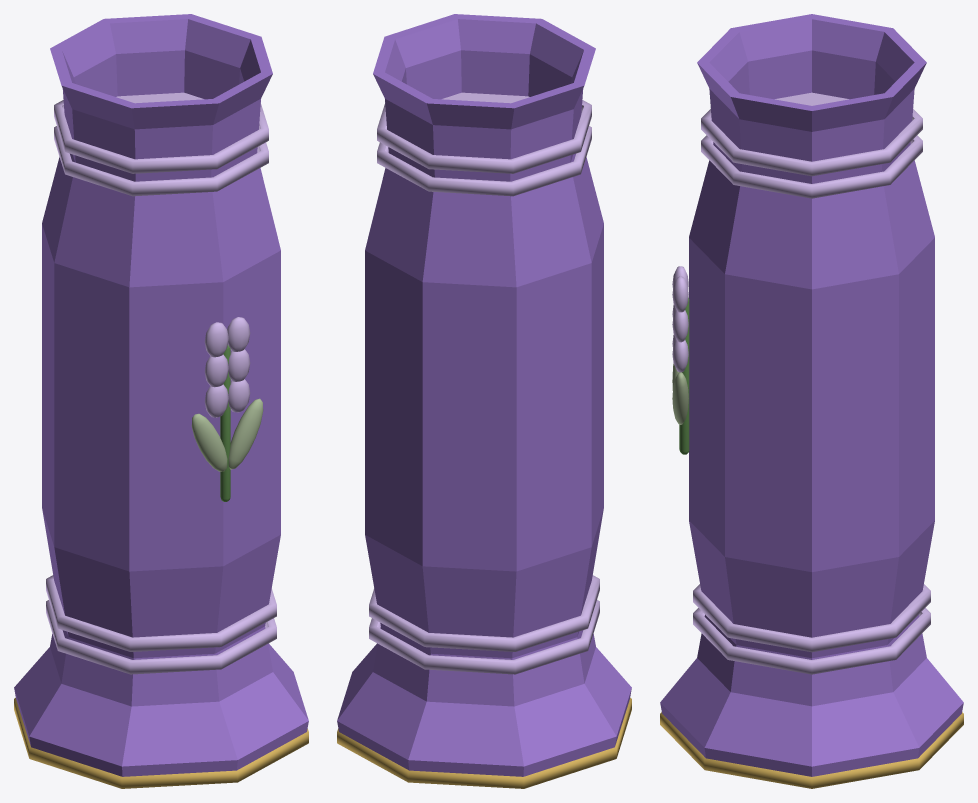
Rendered from vase_lavender.glb.
3 views of the same model, side by side, from view 1: azimuth 30°, elevation 25°; view 2: azimuth 150°, elevation 25°; view 3: azimuth 270°, elevation 25° (orthographic).
Parts seen in each view (by area): view 1: Octagonal_lavender_body, Octagonal_relief_band.003, Octagonal_relief_band.001, Lavender_brass_foot, Octagonal_relief_band, Octagonal_relief_band.002, Lavender_emblem_leaf.001, Lavender_emblem_leaf, Lavender_emblem_stem, Lavender_emblem_bud.004, Lavender_emblem_bud.005, Lavender_emblem_bud (+3 smaller); view 2: Octagonal_lavender_body, Octagonal_relief_band.003, Octagonal_relief_band.001, Lavender_brass_foot, Octagonal_relief_band, Octagonal_relief_band.002; view 3: Octagonal_lavender_body, Octagonal_relief_band.003, Octagonal_relief_band, Octagonal_relief_band.001, Lavender_brass_foot, Octagonal_relief_band.002, Lavender_emblem_stem, Lavender_emblem_leaf.001.
Boxes of the visible parts, x1,y1,x2,y2 form: Octagonal_lavender_body: (14, 14, 308, 776); Octagonal_relief_band.003: (54, 92, 268, 173); Octagonal_relief_band.001: (46, 575, 276, 651); Lavender_brass_foot: (14, 698, 308, 788); Octagonal_relief_band: (46, 600, 276, 674); Octagonal_relief_band.002: (54, 126, 268, 196); Lavender_emblem_leaf.001: (228, 398, 263, 469); Lavender_emblem_leaf: (191, 413, 227, 471); Lavender_emblem_stem: (220, 345, 230, 501); Lavender_emblem_bud.004: (204, 322, 228, 357); Lavender_emblem_bud.005: (227, 317, 250, 351); Lavender_emblem_bud: (204, 384, 228, 417); Octagonal_lavender_body: (337, 14, 631, 776); Octagonal_relief_band.003: (377, 92, 591, 173); Octagonal_relief_band.001: (369, 575, 599, 651); Lavender_brass_foot: (337, 698, 631, 788); Octagonal_relief_band: (369, 600, 599, 674); Octagonal_relief_band.002: (377, 126, 591, 196); Octagonal_lavender_body: (660, 14, 963, 776); Octagonal_relief_band.003: (701, 92, 922, 176); Octagonal_relief_band: (693, 608, 930, 674); Octagonal_relief_band.001: (693, 584, 930, 652); Lavender_brass_foot: (660, 712, 963, 788); Octagonal_relief_band.002: (701, 135, 922, 198); Lavender_emblem_stem: (679, 297, 689, 454); Lavender_emblem_leaf.001: (672, 372, 688, 424).
Size of the model in its own units: 0.074 by 0.18 by 0.074.
